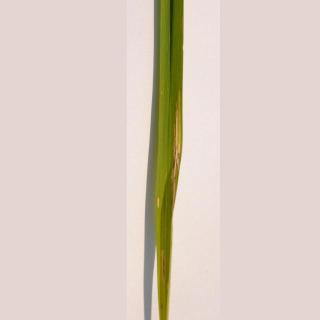Hawar-Daun: (145, 93, 203, 320)
